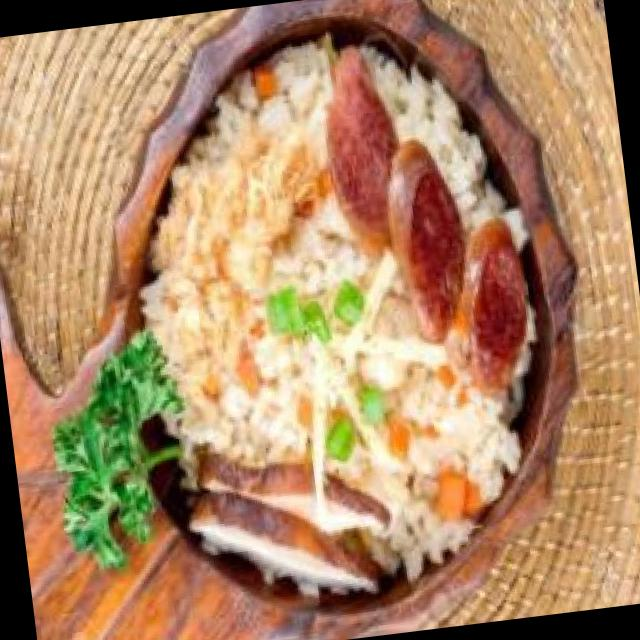chinese_sausage: (312, 29, 542, 408)
